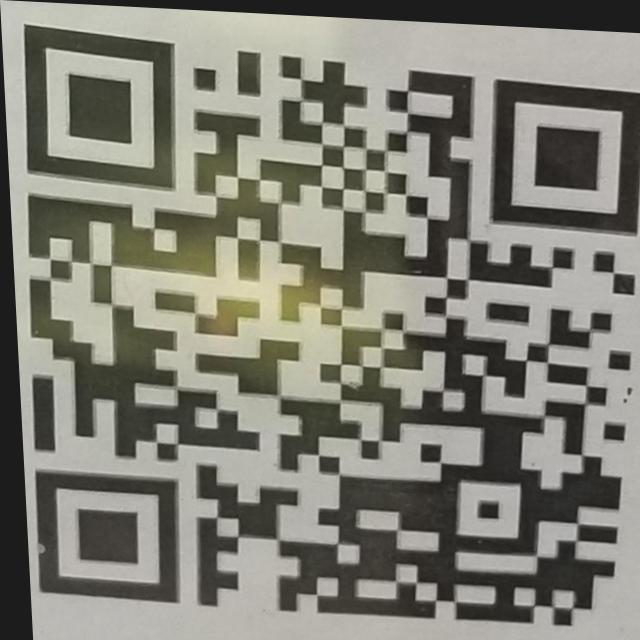QR_CODE: (11, 20, 640, 631)
